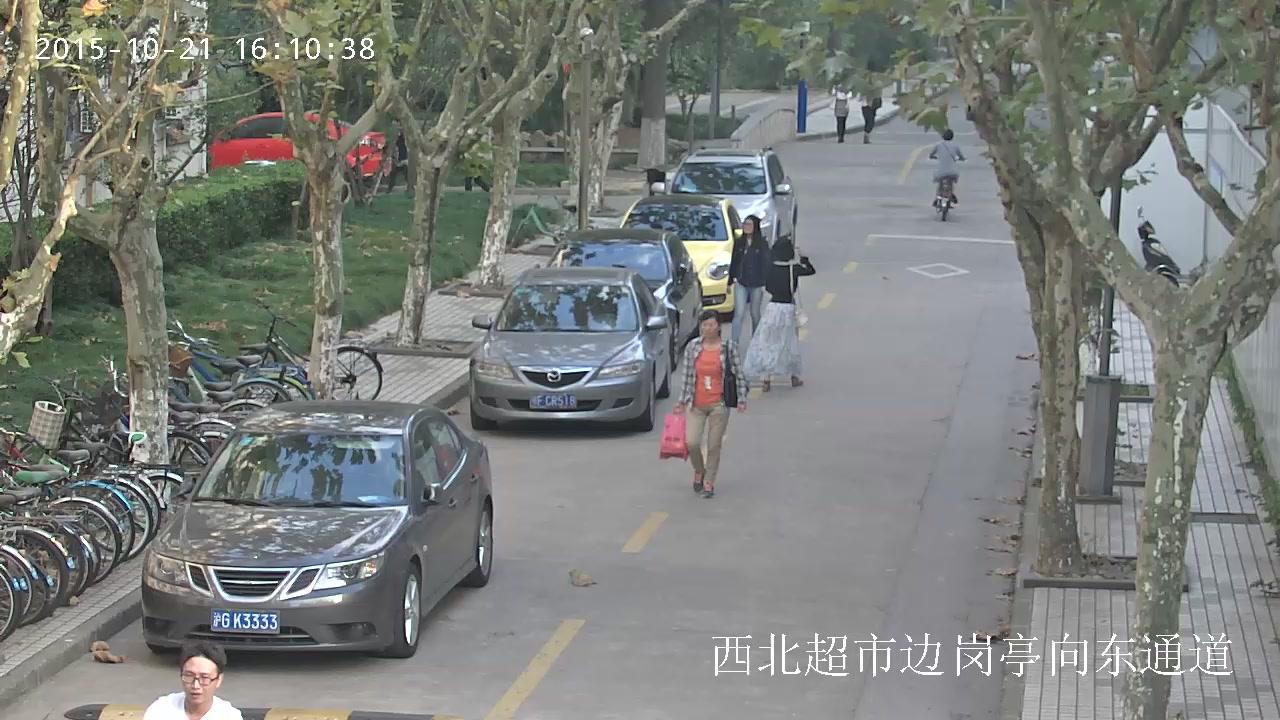person: (658, 309, 749, 498), (741, 235, 817, 393), (142, 638, 242, 720), (730, 215, 771, 342), (930, 129, 964, 222), (930, 130, 964, 210), (384, 118, 414, 194), (462, 148, 493, 194), (859, 92, 883, 147), (832, 82, 851, 146)
